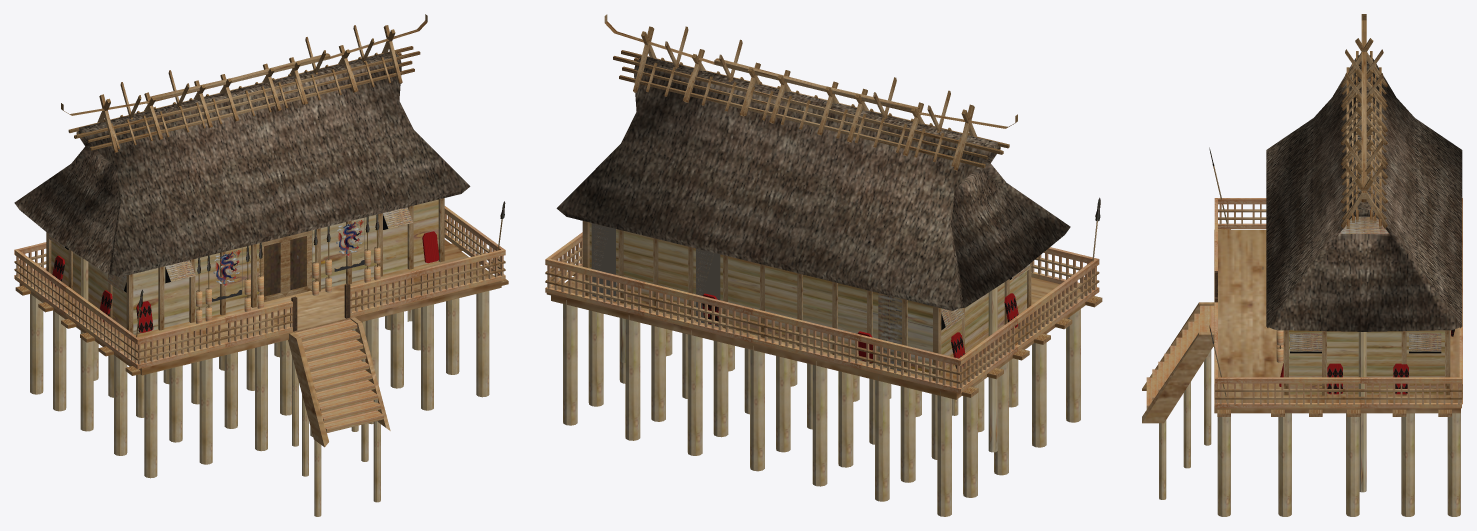
File: yayoi_cc.dae
The picture shows the model from 3 angles, left to right: view 1: azimuth 30°, elevation 25°; view 2: azimuth 150°, elevation 25°; view 3: azimuth 270°, elevation 25°; orthographic projection. The views are drawn at different scales.
Visible parts, largest first — view 1: cc; view 2: cc; view 3: cc.
Part boxes in pixels (x1,y1,x2,y2): cc: [14, 14, 508, 516]; cc: [545, 14, 1102, 516]; cc: [1142, 14, 1462, 516].
Bounding box in the file's own units: 28.64 × 21.01 × 27.39.
